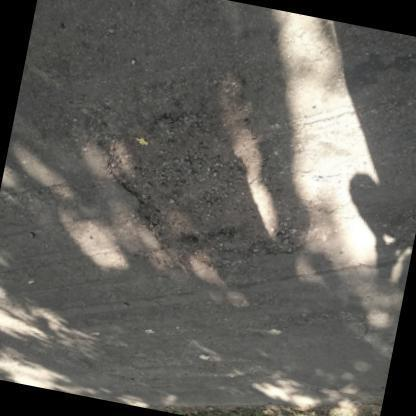pothole: (89, 69, 298, 263)
